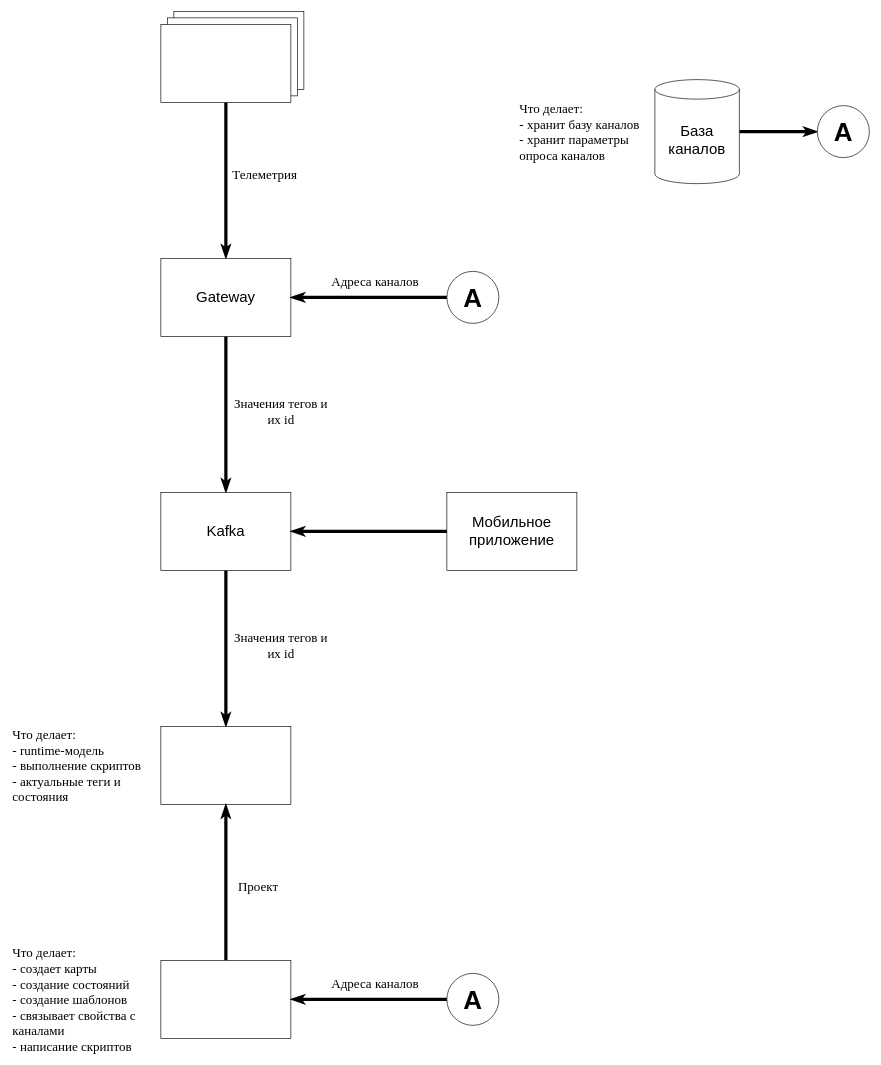
Image size: 881x1065. Some labels were removed from this diagram. Here are the shapes that lost their labels. From the top down, the centre of each, then its label:
At (x=225, y=63): "Контроллеры".
At (x=225, y=765): "Монитор".
At (x=225, y=999): "Редактор".
